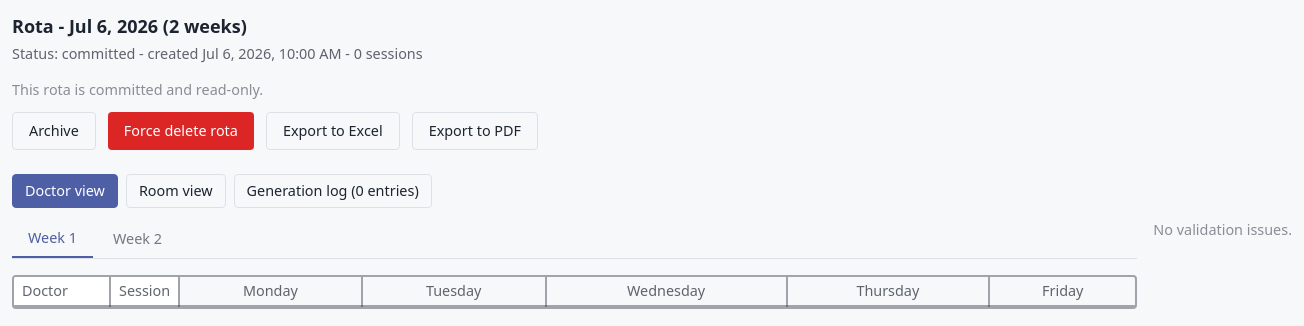
Scenario: RotaDetailPage › archives after confirmation and stays on the rota, now read-only
The width and height of the screenshot is (1304, 326).
Click the button "Archive".
click(54, 131)  # box [12,112,96,150]
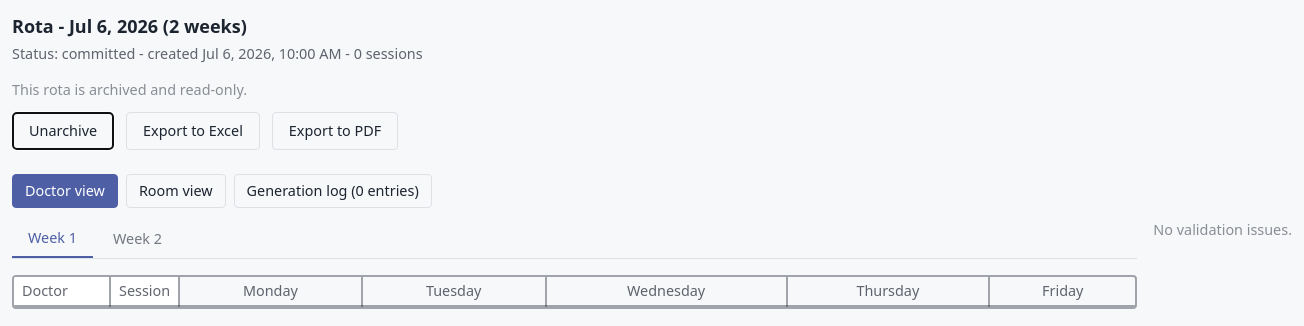
Expected: the text "This rota is archived and read-only." is shown, [12,80,247,99]
